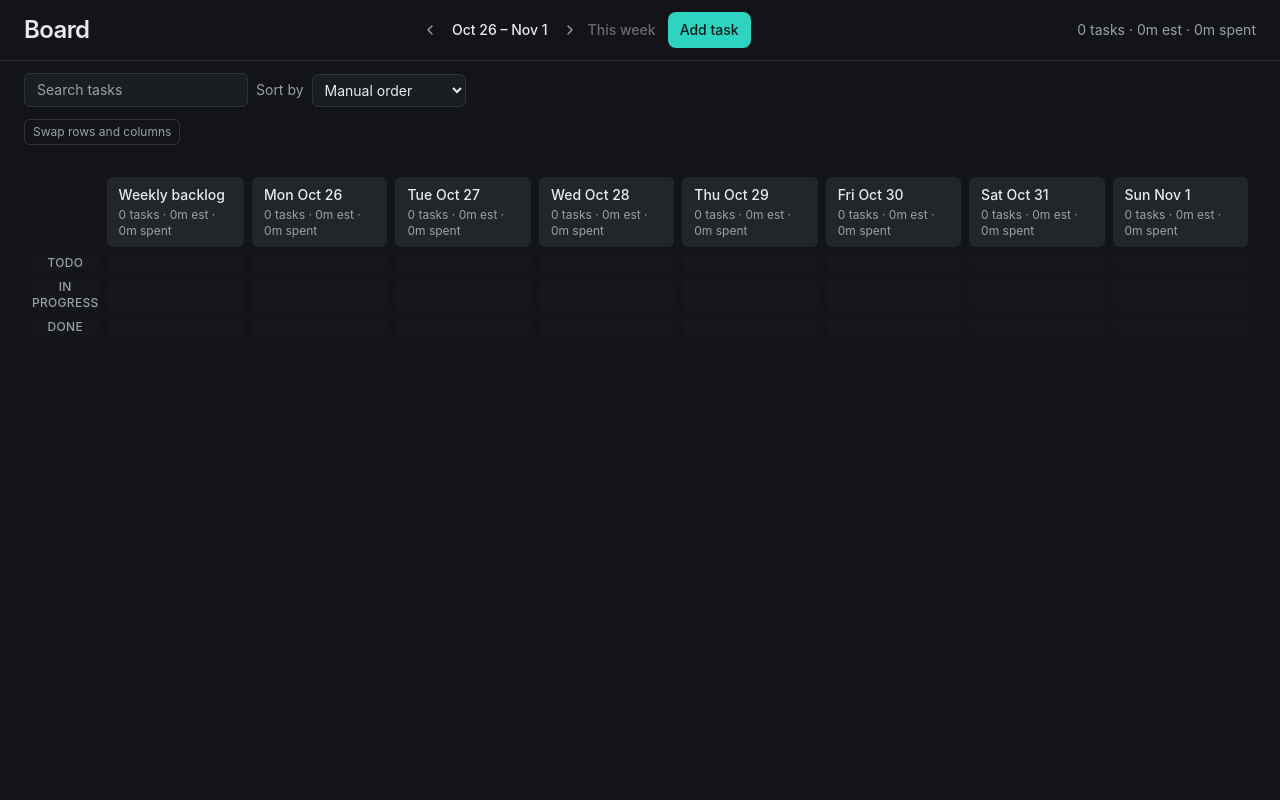
Test: BoardPage › jumps to a past week via the calendar popover
Expected: the column heading "Weekly backlog 0 tasks · 0m est · 0m spent" is shown, [107,177,244,247]
Click the button "Oct 26 – Nov 1" at (500, 30), box [448,20,552,40]
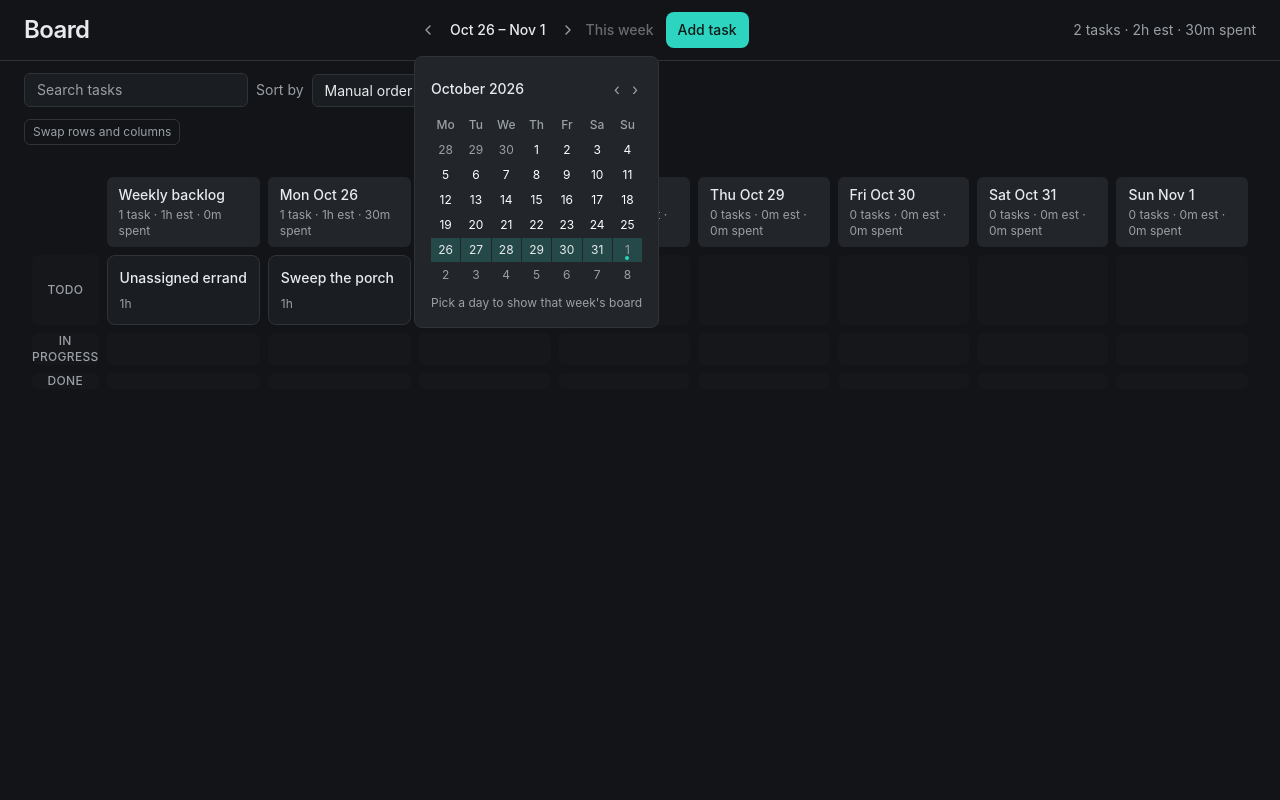
Click the button named "Oct 12, 2026" at (446, 200), box [431,188,460,212]
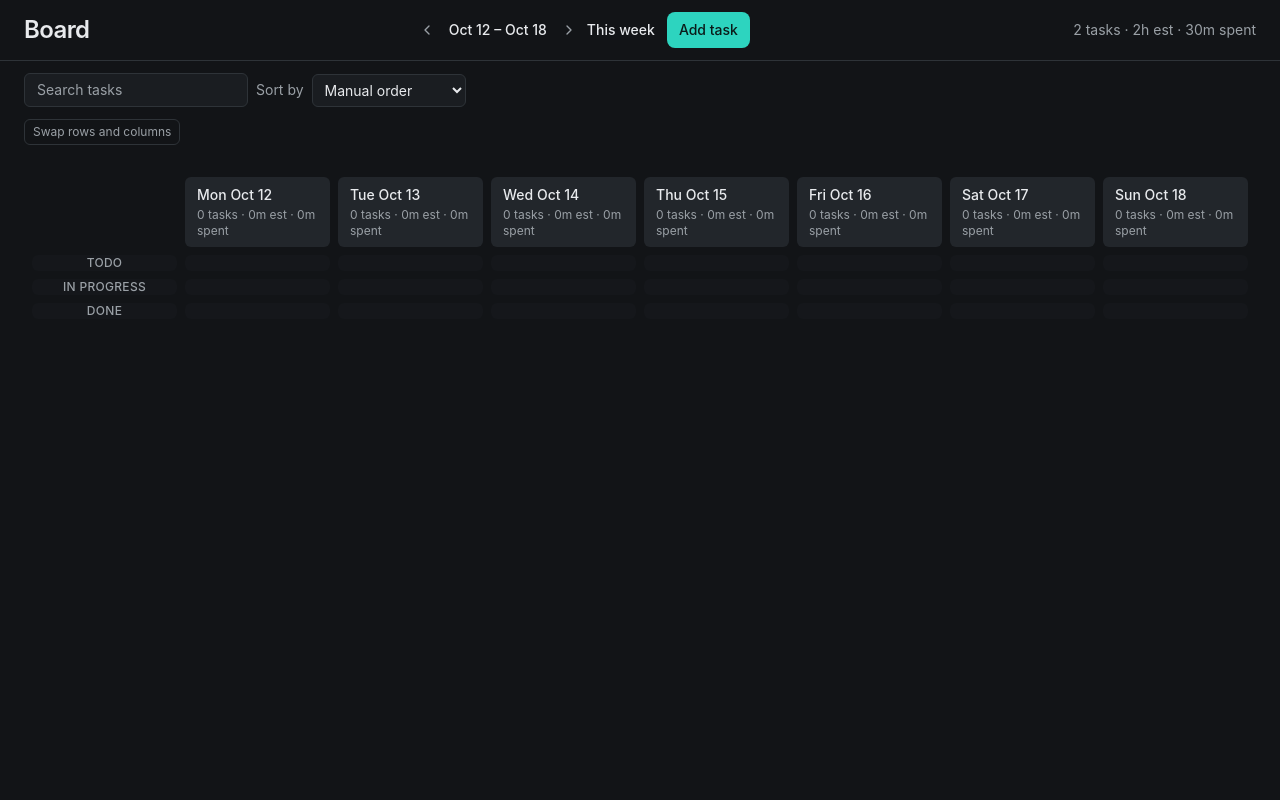
Result: the text "Weekly backlog" is gone
